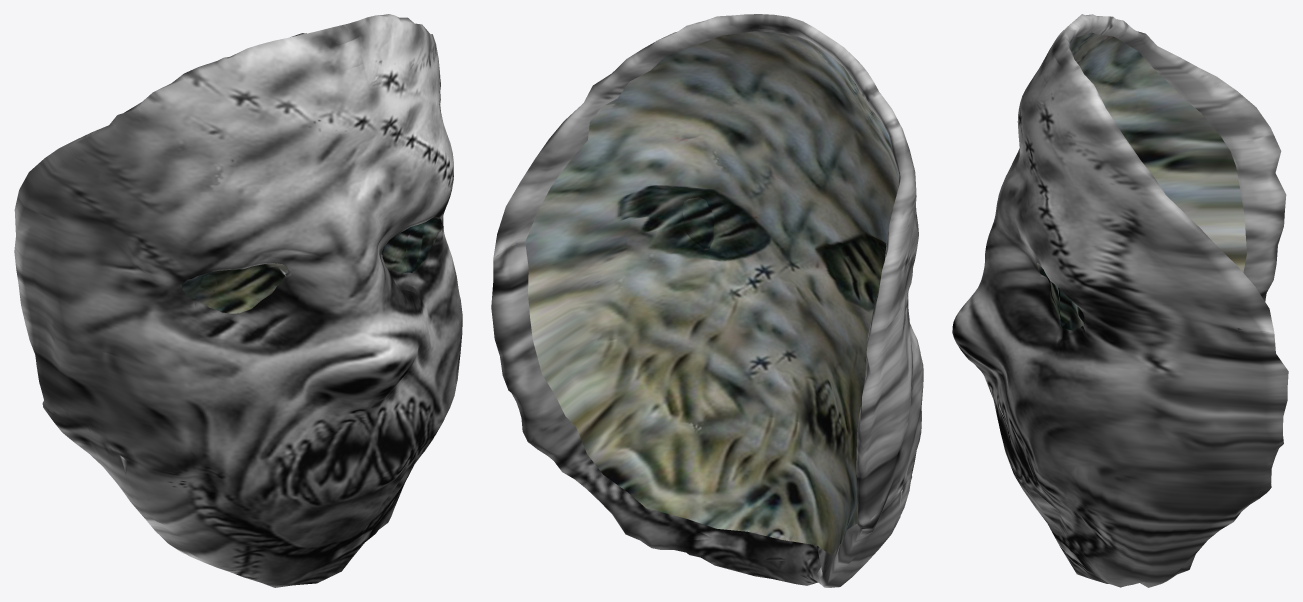
File: warden.glb
3 renders of one model, left to right at view 1: azimuth 30°, elevation 25°; view 2: azimuth 150°, elevation 25°; view 3: azimuth 270°, elevation 25°, orthographic. The views are drawn at different scales.
Parts seen in each view (by area): view 1: horror_mask; view 2: horror_mask; view 3: horror_mask.
Part boxes in pixels (left/top/right/bottom): horror_mask: left=14, top=14, right=462, bottom=587; horror_mask: left=491, top=14, right=923, bottom=587; horror_mask: left=952, top=14, right=1288, bottom=587.
Size of the model in its own units: 0.1728 by 0.2331 by 0.1334.
Materials: 2 (2 with a texture image).
